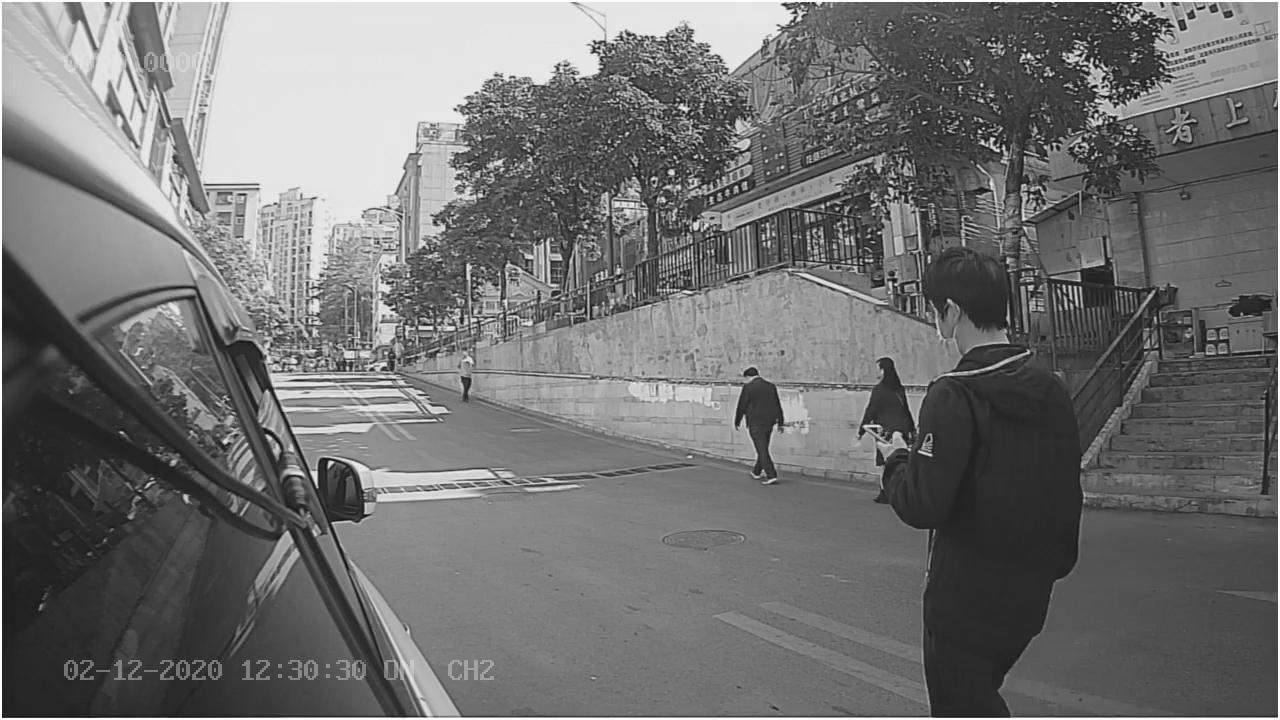person: (875, 237, 1085, 500), (722, 354, 801, 503)
